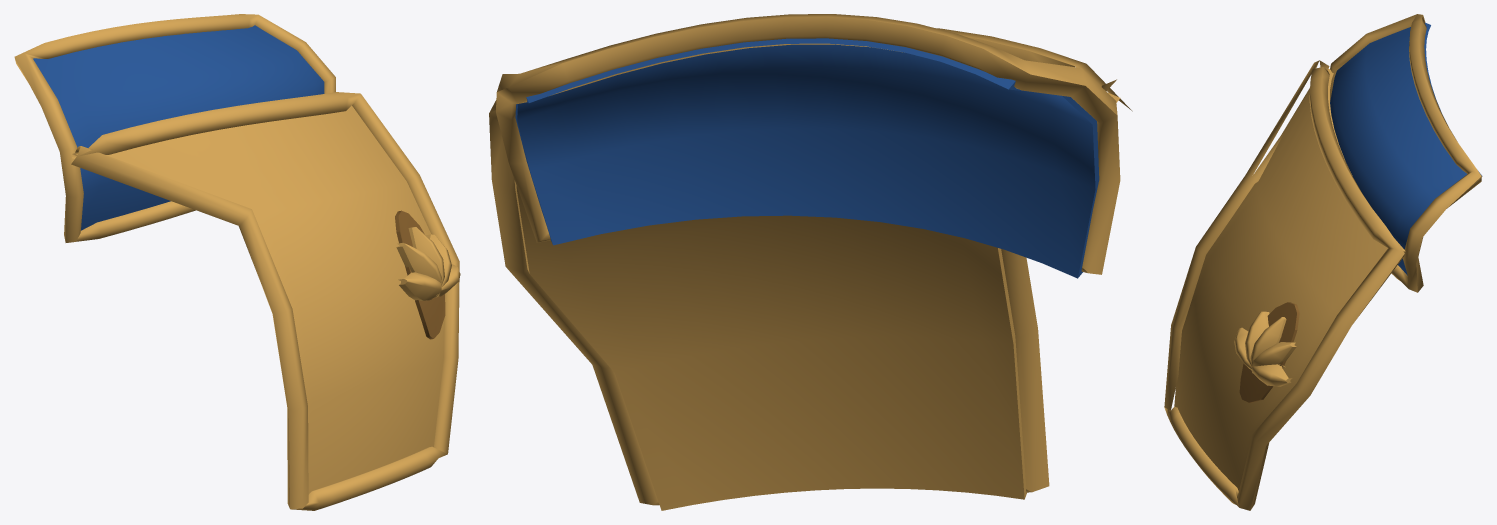
The model's file is shoulder-armour-far.glb.
3 views of the same model, side by side, from view 1: azimuth 30°, elevation 25°; view 2: azimuth 150°, elevation 25°; view 3: azimuth 270°, elevation 25° (orthographic). The views are drawn at different scales.
Visible parts, largest first — view 1: OriginalLeftShoulderArmour; view 2: OriginalLeftShoulderArmour; view 3: OriginalLeftShoulderArmour.
Boxes of the visible parts, x1,y1,x2,y2 form: OriginalLeftShoulderArmour: [14, 14, 460, 510]; OriginalLeftShoulderArmour: [489, 14, 1132, 510]; OriginalLeftShoulderArmour: [1164, 14, 1482, 510].
Bounding box in the file's own units: 0.1052 × 0.1102 × 0.0872.
